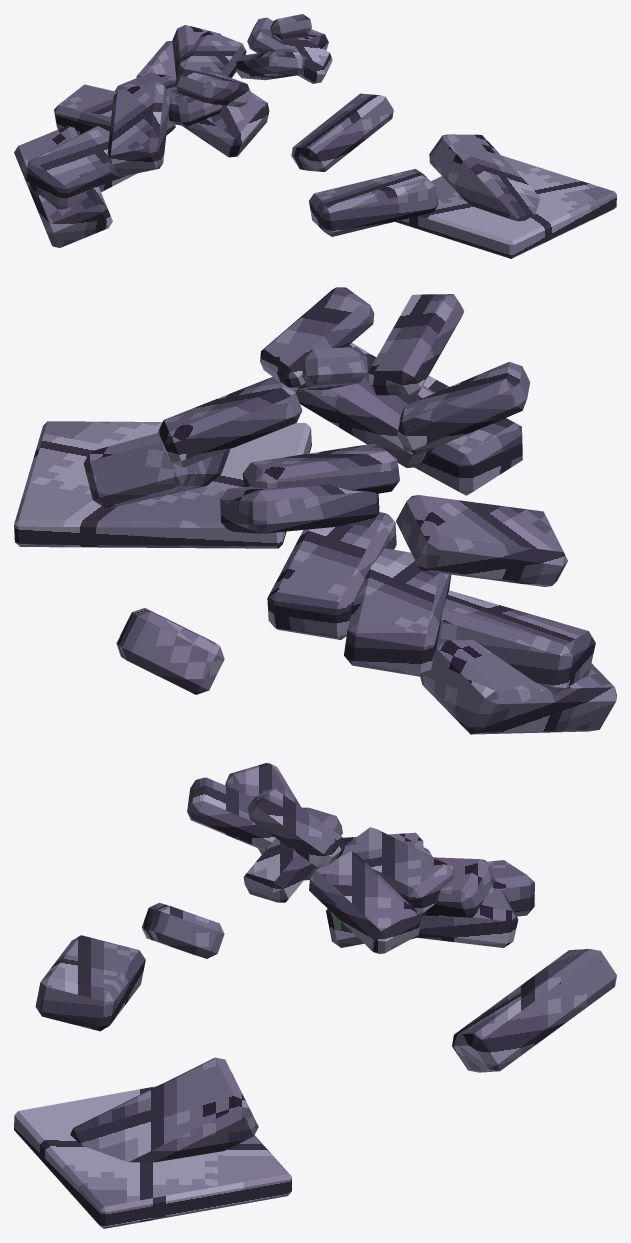
The model's file is tower_rubble.glb.
3 renders of one model, top to bottom at view 1: azimuth 30°, elevation 25°; view 2: azimuth 150°, elevation 25°; view 3: azimuth 270°, elevation 25°, orthographic. The views are drawn at different scales.
Visible parts, largest first — view 1: Rubble; view 2: Rubble; view 3: Rubble.
Part boxes in pixels (left/top/right/bottom): Rubble: left=14, top=14, right=616, bottom=258; Rubble: left=14, top=287, right=616, bottom=734; Rubble: left=14, top=763, right=616, bottom=1228.
Bounding box in the file's own units: 1.7 × 0.7869 × 1.45.
2 materials, 2 textured.
